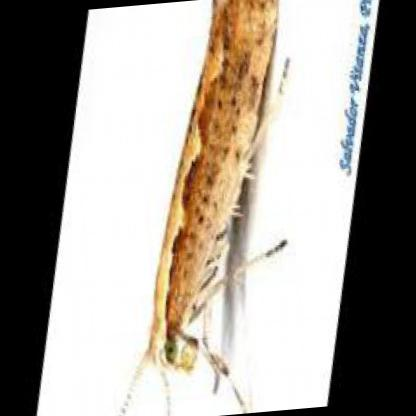plutella: (115, 0, 297, 416)
